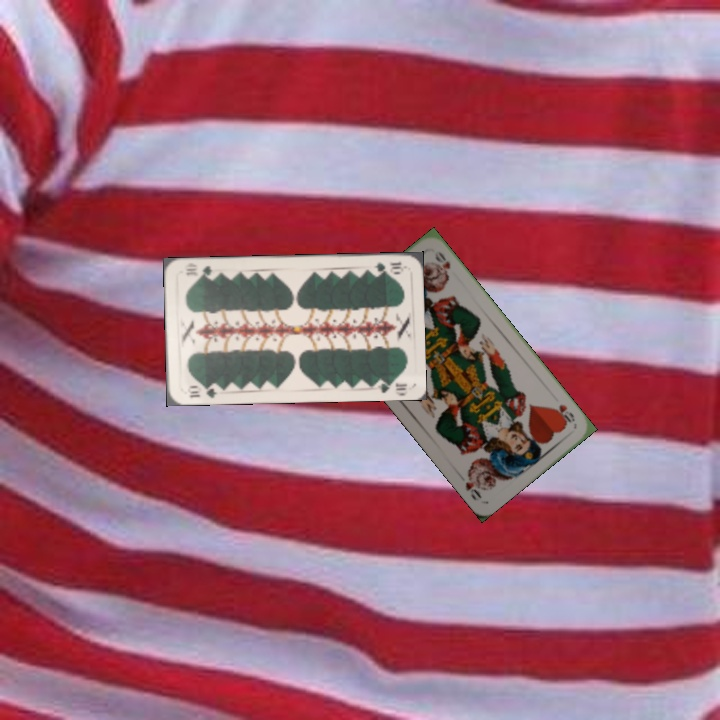G10: (183, 381, 219, 400), (369, 258, 407, 275)
HO: (549, 400, 578, 427)
